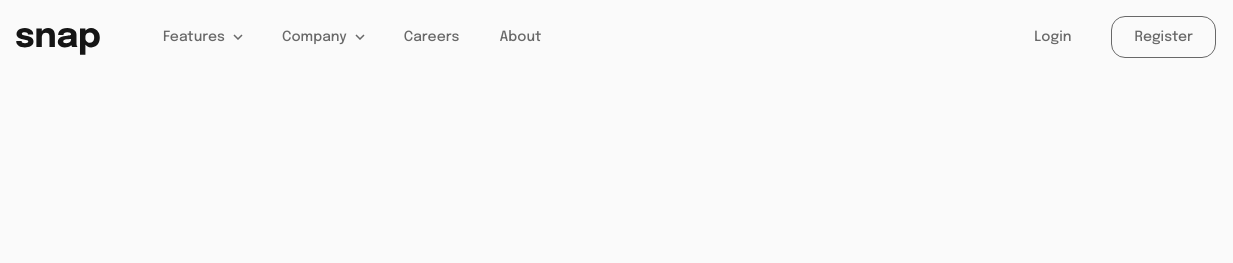
Test: SiteHeader › keeps one submenu open at a time
Click the button "Features": [202, 37] box [163,29,242,45]
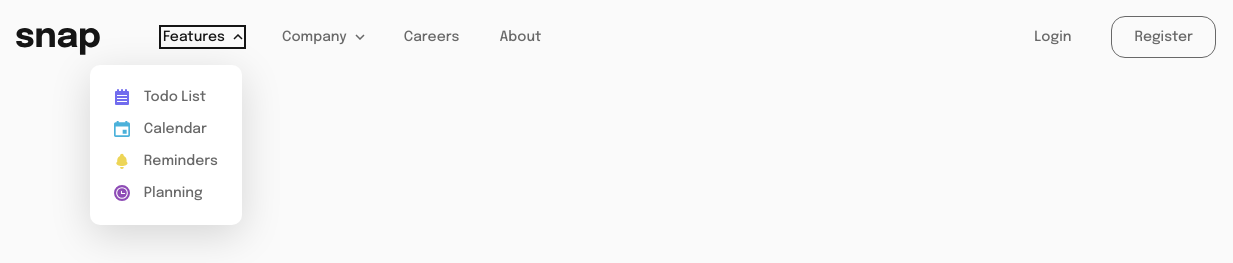
Click the button "Company": [323, 37] box [282,29,364,45]
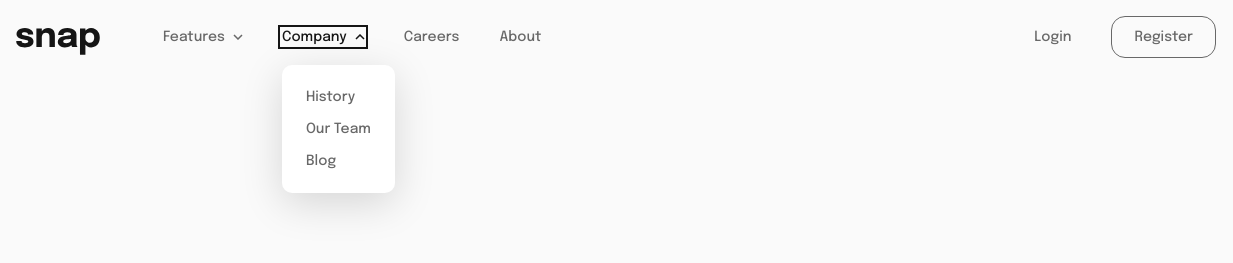
Check: the button "Features" is collapsed, box [163,29,242,45]
Check: the button "Company" is expanded, box [282,29,364,45]
